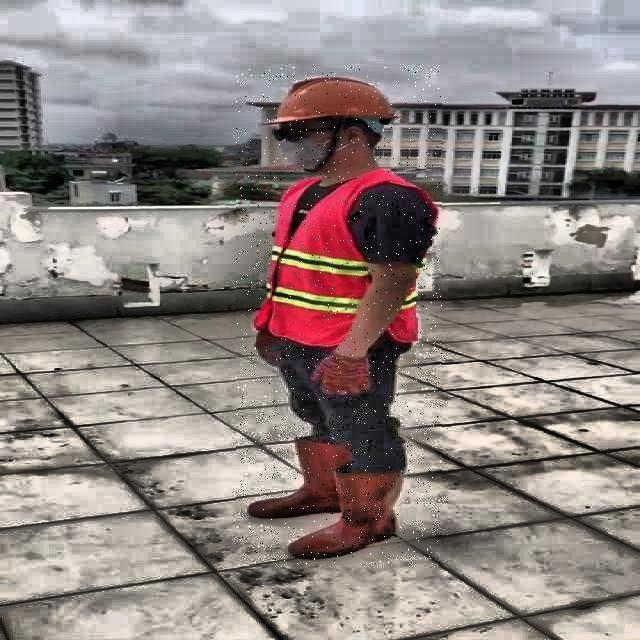safety_helmet: (264, 76, 401, 126)
safety_jacket: (256, 172, 430, 347)
